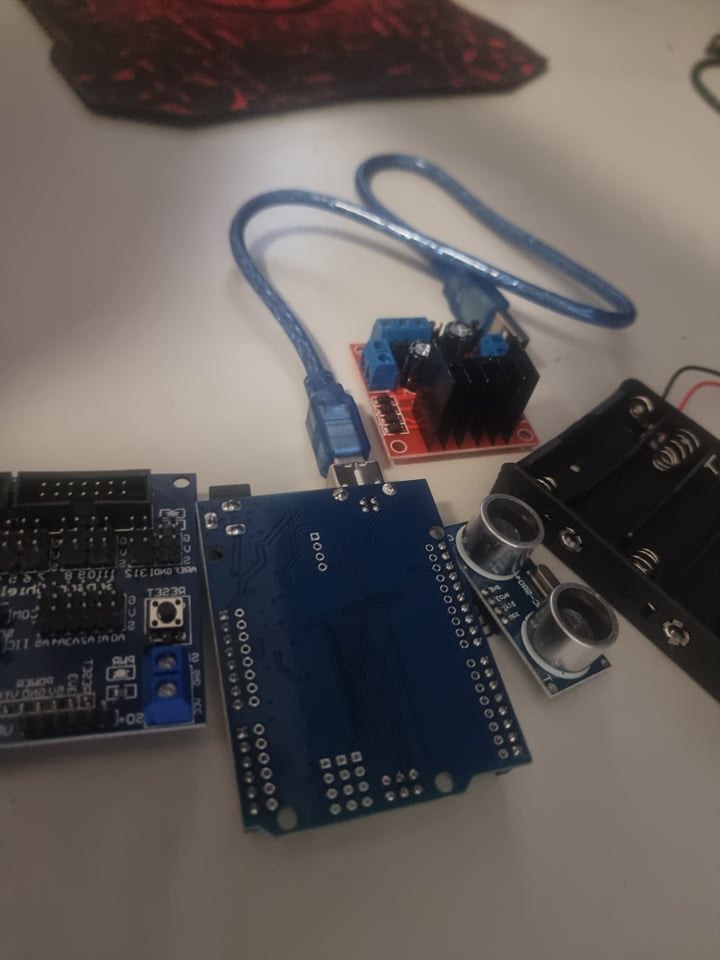5V EXPANSION: (0, 465, 208, 774)
BATTERY BOX: (512, 380, 717, 631)
MOTOR: (347, 306, 542, 462)
SENSOR: (442, 496, 624, 690)
